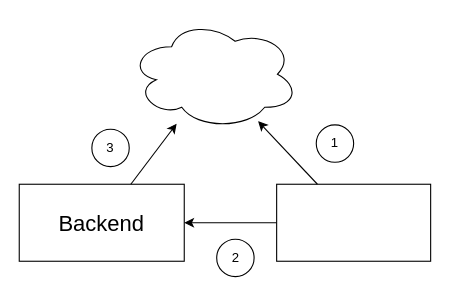
Image size: 450x296. Some labels were removed from this diagram. Each missing label, with the centre of its shape:
"NoAuth" belongs at point 213,73.
"SPA" belongs at point 353,222.
